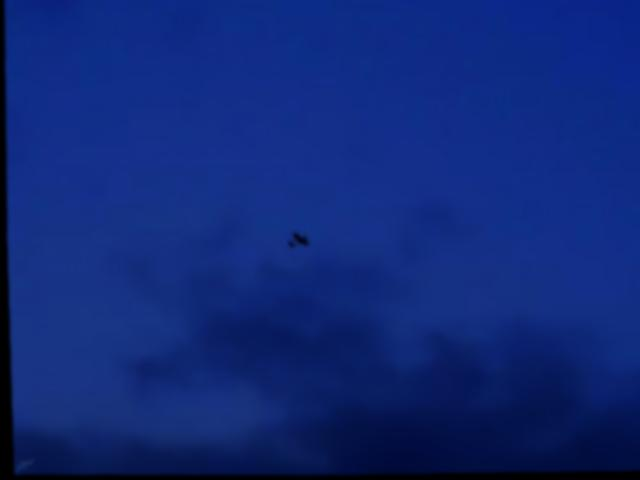uav: (284, 230, 310, 249)
